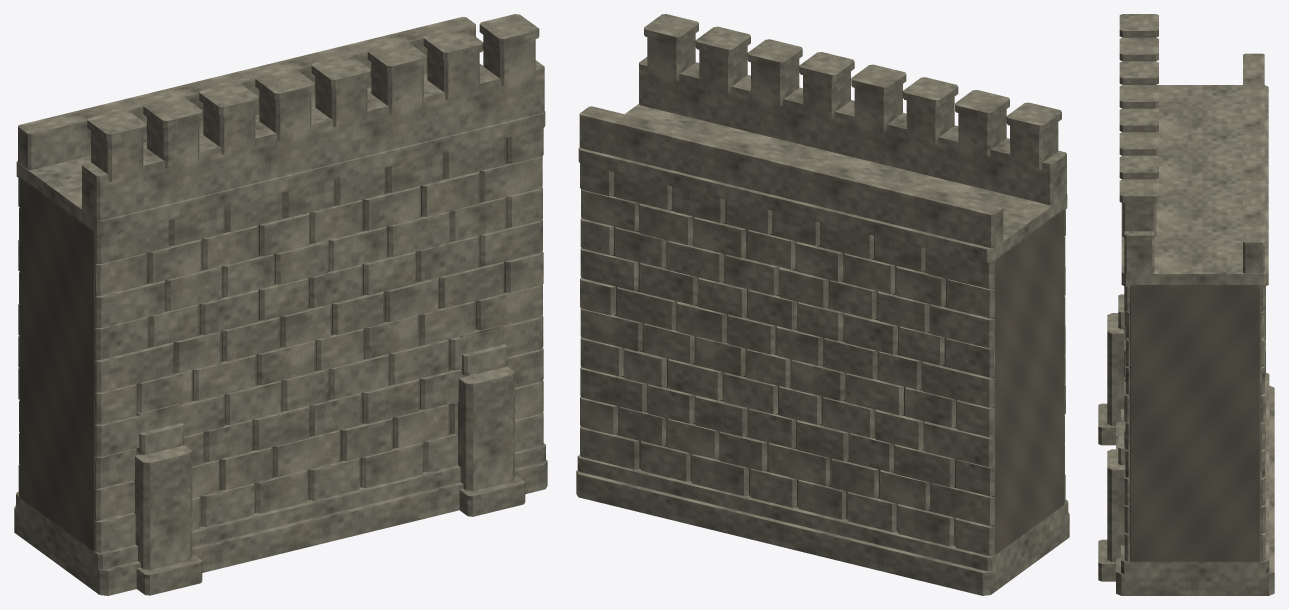
Rendered from stone_wall.glb.
3 views of the same model, side by side, from view 1: azimuth 30°, elevation 25°; view 2: azimuth 150°, elevation 25°; view 3: azimuth 270°, elevation 25° (orthographic). The views are drawn at different scales.
Parts seen in each view (by area): view 1: Stone Wall; view 2: Stone Wall; view 3: Stone Wall.
Part boxes in pixels (x1,y1,x2,y2): Stone Wall: [14, 14, 547, 595]; Stone Wall: [576, 14, 1069, 595]; Stone Wall: [1098, 14, 1274, 595].
Size of the model in its own units: 6.4 by 6.25 by 2.52.
Materials: 2 (2 with a texture image).
